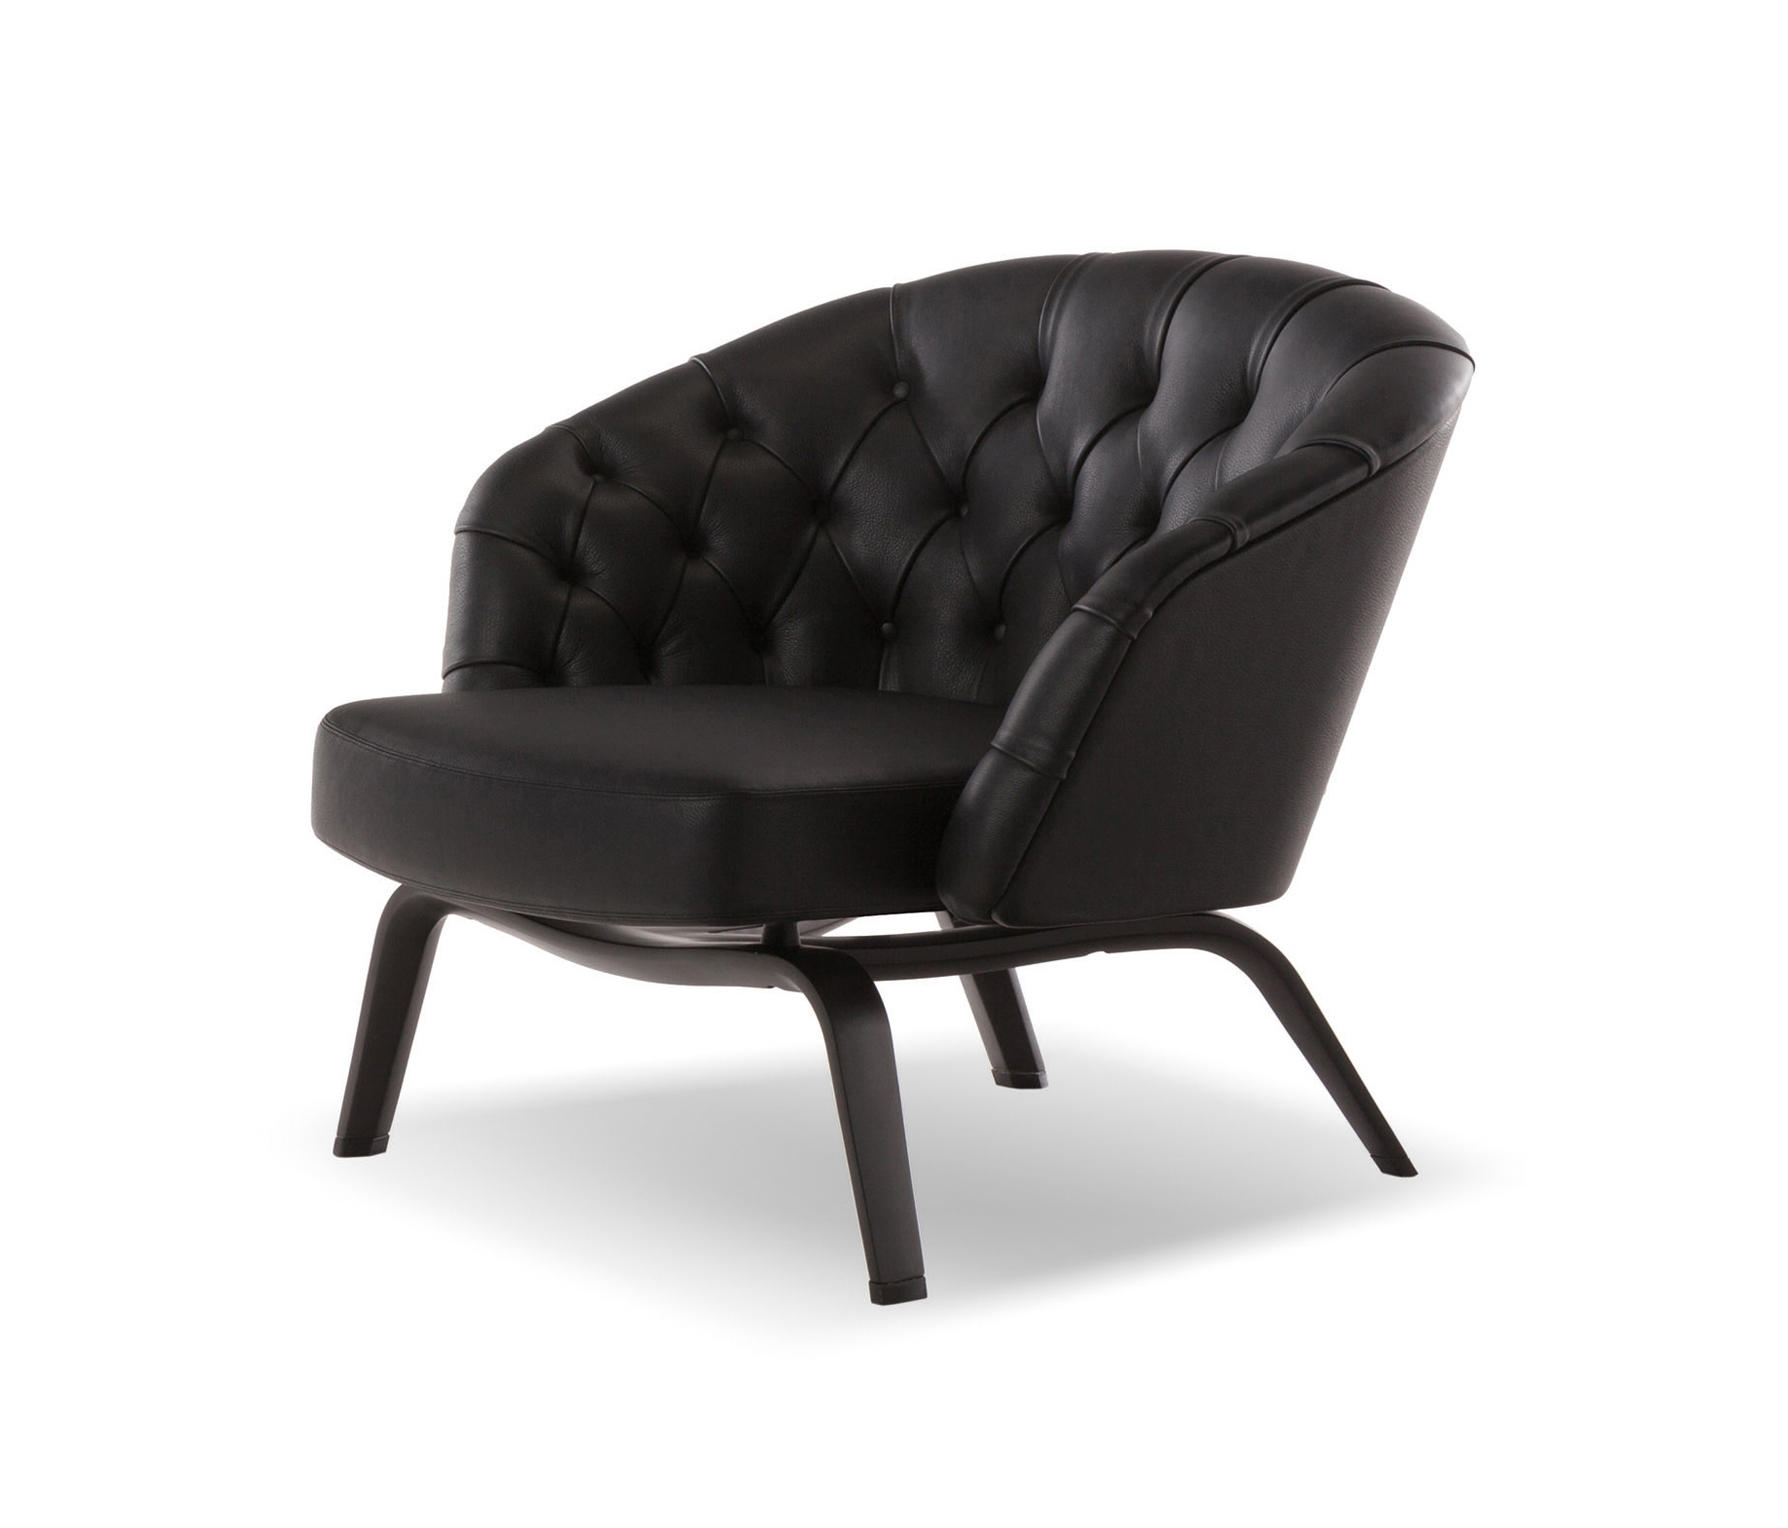chairs: (299, 246, 1488, 1314)
